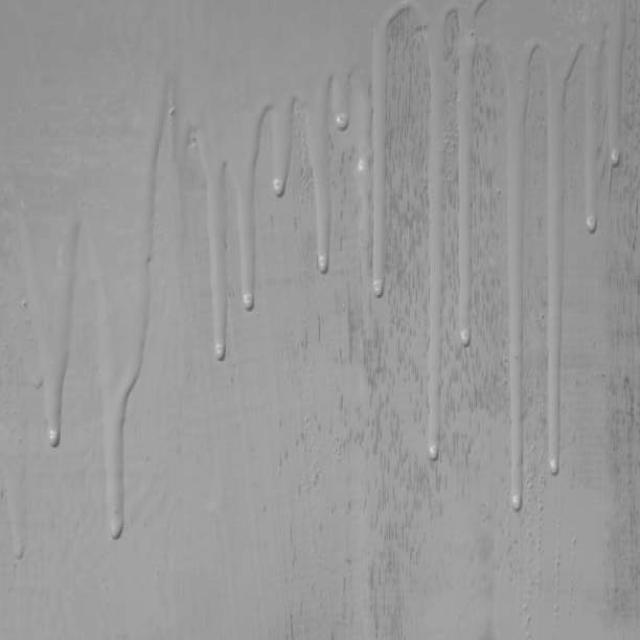paint drips: (410, 0, 638, 518), (166, 0, 406, 368), (0, 109, 164, 566)
